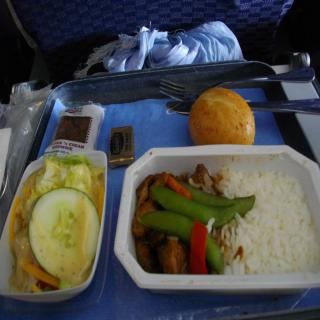Bread: (189, 86, 256, 146)
